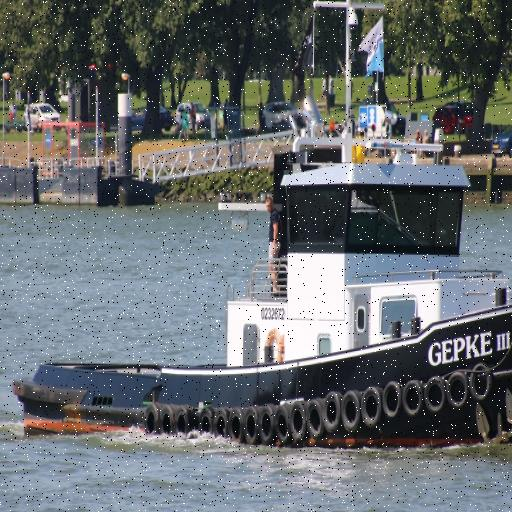tugboat: (10, 1, 512, 463)
